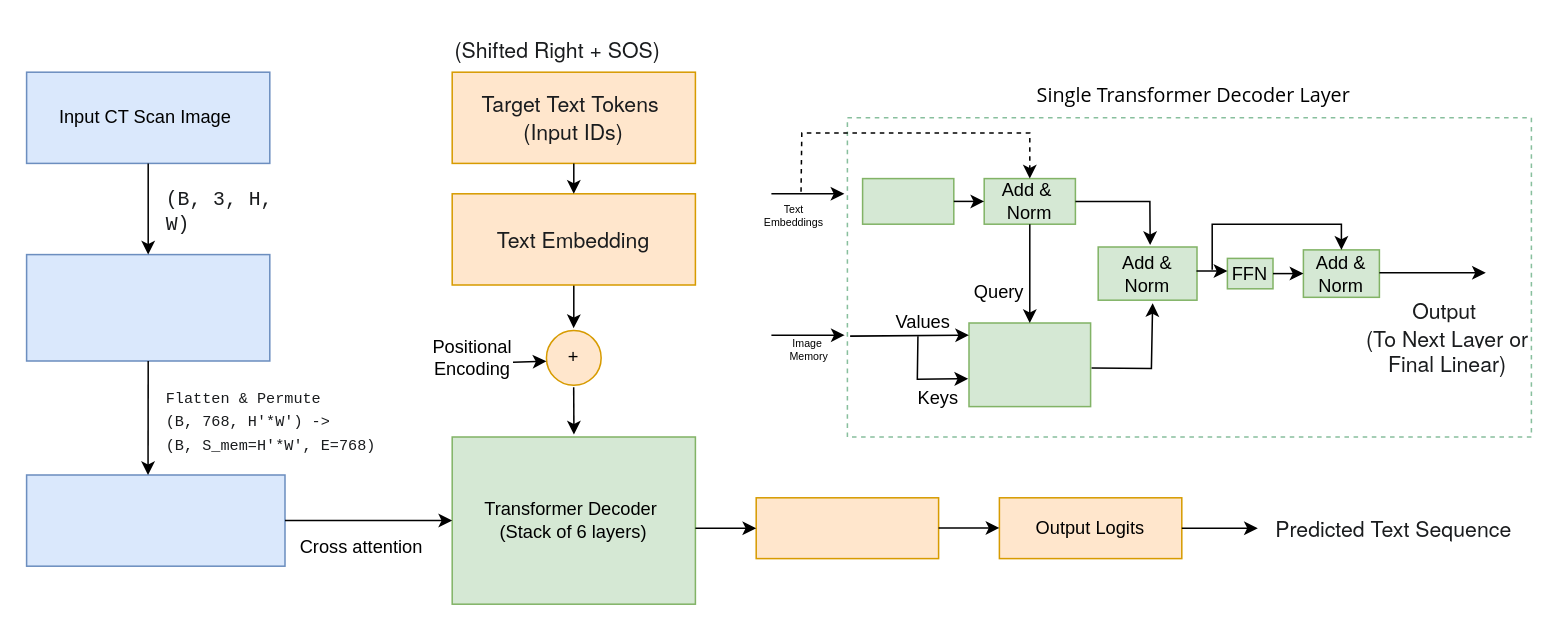
The diagram is 1558 pixels wide and 631 high, and some of its shapes have lost their labels. Each missing label, with the centre of its shape:
ConvNeXt-Tiny Encoder (Outputs F4 features - (B, 768, H/32, W/32)): [147,307]
Linear: [847,527]
Masked MHSA: [907,200]
Memory (Image Features): [155,519]
MHCA: [1029,364]
